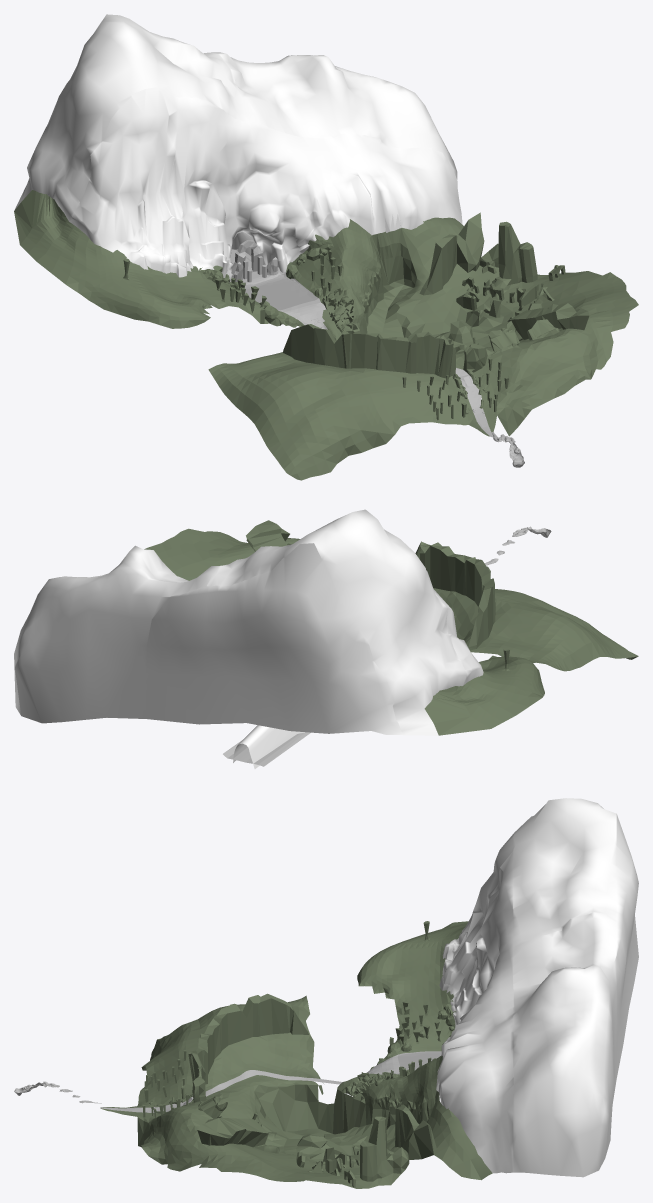
File: 0311_collisions.fbx
3 renders of one model, top to bottom at view 1: azimuth 30°, elevation 25°; view 2: azimuth 150°, elevation 25°; view 3: azimuth 270°, elevation 25°, orthographic. The views are drawn at different scales.
Parts seen in each view (by area): view 1: collision_11, collision_05, collision_10, collision_12, collision_13, collision_04, collision_08, collision_06, collision_07, collision_09; view 2: collision_14, collision_12, collision_13, collision_05, collision_04, collision_10, collision_06, collision_07, collision_09; view 3: collision_13, collision_11, collision_05, collision_12, collision_08, collision_10, collision_06, collision_14, collision_07, collision_09, collision_04.
Boxes of the visible parts, left/top/right/bottom form: collision_11: left=162, top=92, right=498, bottom=322; collision_05: left=280, top=320, right=564, bottom=452; collision_10: left=33, top=89, right=223, bottom=316; collision_12: left=14, top=14, right=260, bottom=261; collision_13: left=213, top=52, right=457, bottom=179; collision_04: left=208, top=353, right=361, bottom=480; collision_08: left=254, top=221, right=558, bottom=340; collision_06: left=471, top=287, right=624, bottom=393; collision_07: left=537, top=265, right=638, bottom=327; collision_09: left=126, top=294, right=212, bottom=328; collision_14: left=146, top=543, right=403, bottom=735; collision_12: left=206, top=509, right=509, bottom=768; collision_13: left=14, top=545, right=219, bottom=723; collision_05: left=415, top=541, right=545, bottom=652; collision_04: left=476, top=602, right=638, bottom=671; collision_10: left=426, top=570, right=544, bottom=718; collision_06: left=178, top=520, right=299, bottom=580; collision_07: left=144, top=528, right=227, bottom=576; collision_09: left=479, top=655, right=541, bottom=680; collision_13: left=513, top=912, right=616, bottom=1177; collision_11: left=395, top=851, right=513, bottom=1180; collision_05: left=135, top=993, right=324, bottom=1150; collision_12: left=513, top=798, right=616, bottom=949; collision_08: left=324, top=1037, right=394, bottom=1182; collision_10: left=395, top=834, right=513, bottom=1013; collision_06: left=141, top=1115, right=324, bottom=1175; collision_14: left=616, top=814, right=638, bottom=1077; collision_07: left=199, top=1163, right=393, bottom=1188; collision_09: left=357, top=944, right=395, bottom=1002; collision_04: left=150, top=995, right=309, bottom=1060.
Bounding box in the file's own units: 45479 × 27821 × 55037.
